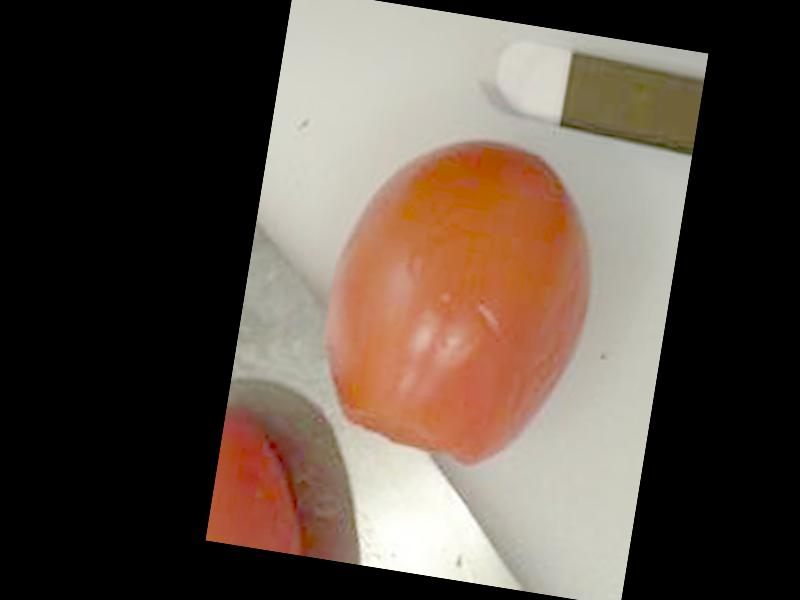Tomato: (305, 118, 611, 479)
